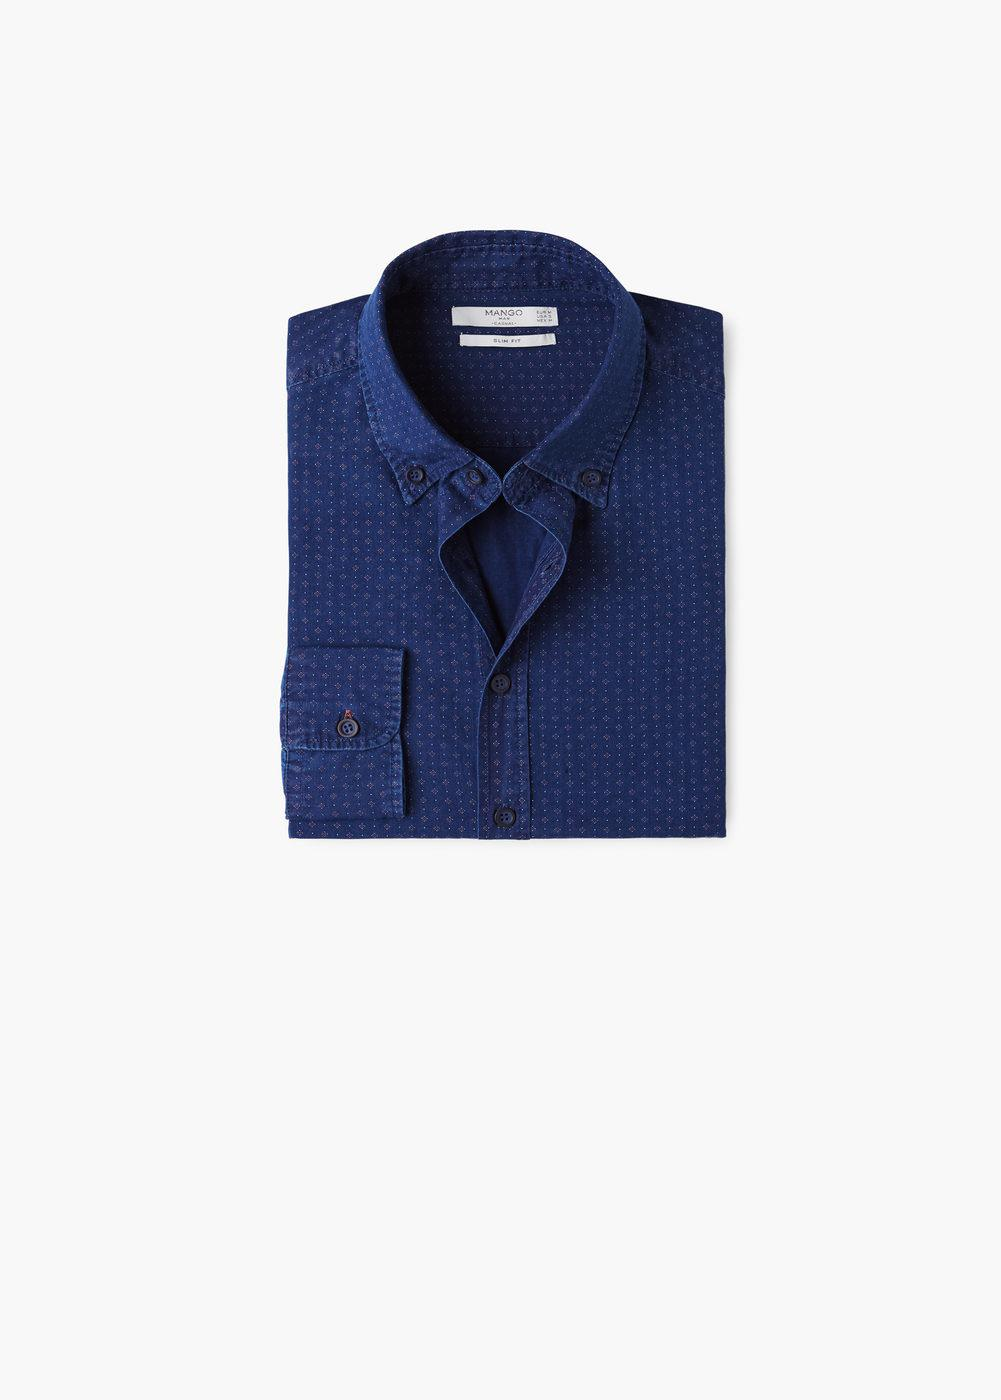teeshirt: (240, 215, 744, 863)
